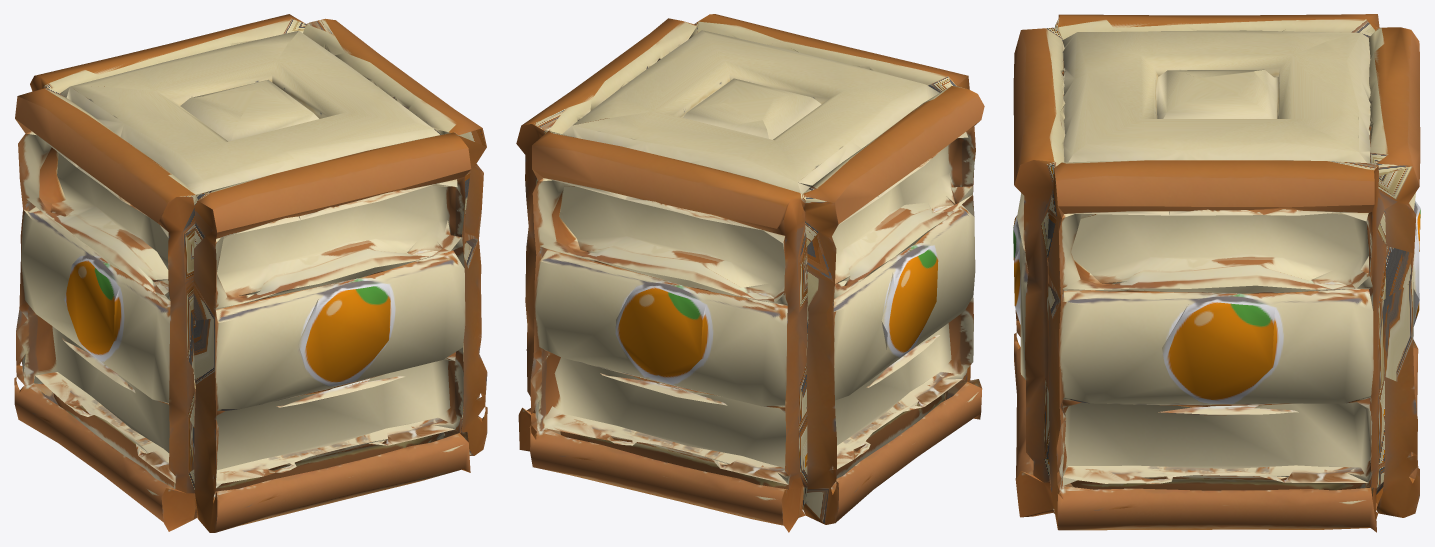
The model's file is Prop_FruitCrate.fbx.
The picture shows the model from 3 angles, left to right: view 1: azimuth 30°, elevation 25°; view 2: azimuth 150°, elevation 25°; view 3: azimuth 270°, elevation 25°; orthographic projection. The views are drawn at different scales.
Visible parts, largest first — view 1: Prop_FruitCrate; view 2: Prop_FruitCrate; view 3: Prop_FruitCrate.
Boxes of the visible parts, left/top/right/bottom form: Prop_FruitCrate: left=14, top=14, right=487, bottom=532; Prop_FruitCrate: left=516, top=14, right=984, bottom=532; Prop_FruitCrate: left=1013, top=14, right=1420, bottom=532.
Bounding box in the file's own units: 1.2 × 1.2 × 1.2.
